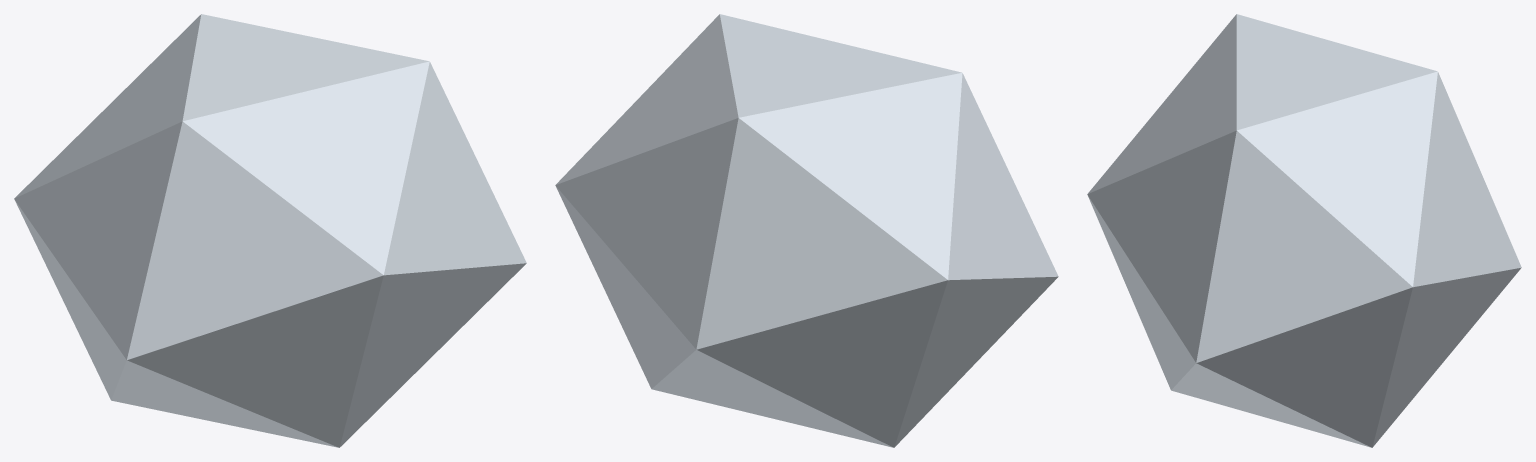
Rendered from Snowball_Alt4.fbx.
3 renders of one model, left to right at view 1: azimuth 30°, elevation 25°; view 2: azimuth 150°, elevation 25°; view 3: azimuth 270°, elevation 25°, orthographic. The views are drawn at different scales.
Visible parts, largest first — view 1: Snowball_Alt4; view 2: Snowball_Alt4; view 3: Snowball_Alt4.
Boxes of the visible parts, x1,y1,x2,y2 form: Snowball_Alt4: [14, 14, 526, 447]; Snowball_Alt4: [555, 14, 1058, 447]; Snowball_Alt4: [1087, 14, 1521, 447].
Size of the model in its own units: 0.1286 by 0.102 by 0.1258.
